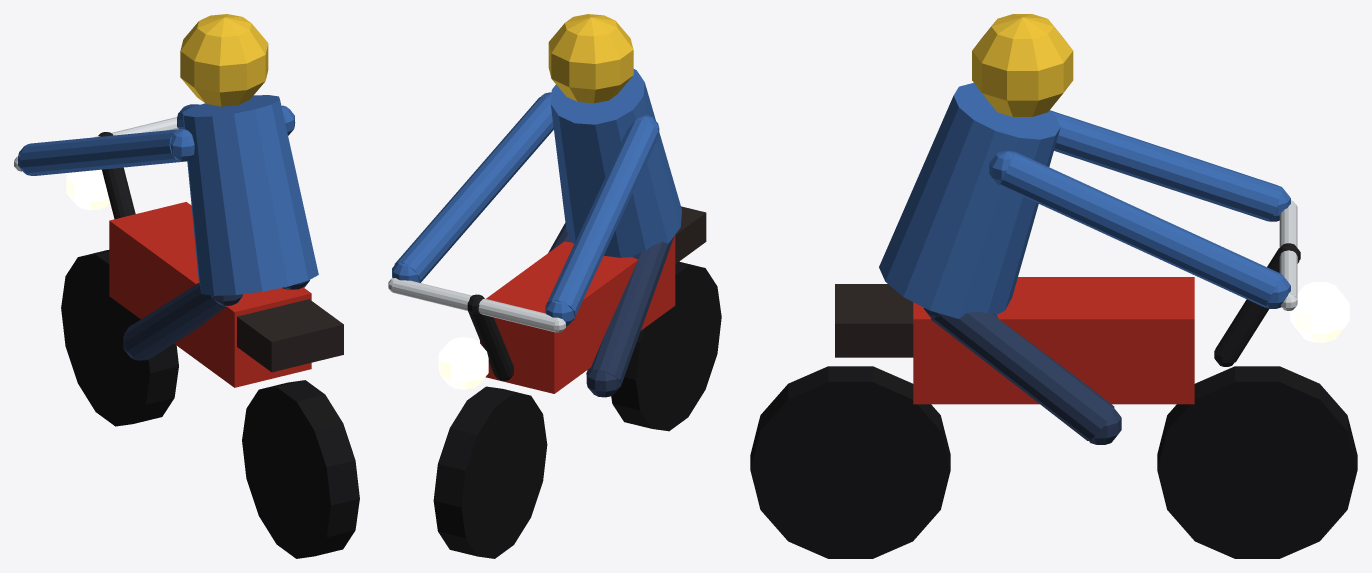
The model's file is rick-bike-e8N5pLY_.glb.
The picture shows the model from 3 angles, left to right: view 1: azimuth 30°, elevation 25°; view 2: azimuth 150°, elevation 25°; view 3: azimuth 270°, elevation 25°; orthographic projection. The views are drawn at different scales.
Parts seen in each view (by area): view 1: Cone, Cylinder, Cube, Cylinder.001, Sphere.005, Cube.001, Cylinder.004, Cylinder.005, Sphere.004, Cylinder.002, Sphere.006, Cylinder.003; view 2: Cylinder.001, Cone, Cube, Cylinder, Cylinder.006, Cylinder.004, Sphere.005, Cylinder.005, Cylinder.003, Sphere.004, Cylinder.002, Cube.001 (+2 smaller); view 3: Cylinder, Cylinder.001, Cube, Cone, Cylinder.006, Cylinder.004, Sphere.005, Cylinder.007, Cube.001, Sphere.004, Cylinder.002, Cylinder.003.
Part boxes in pixels (x1=…): Cone: x1=182, y1=95, x2=318, y2=295; Cylinder: x1=242, y1=380, x2=359, y2=558; Cube: x1=109, y1=202, x2=311, y2=387; Cylinder.001: x1=61, y1=250, x2=178, y2=426; Sphere.005: x1=180, y1=14, x2=268, y2=106; Cube.001: x1=237, y1=299, x2=343, y2=372; Cylinder.004: x1=20, y1=129, x2=185, y2=175; Cylinder.005: x1=124, y1=283, x2=239, y2=359; Sphere.004: x1=66, y1=169, x2=109, y2=210; Cylinder.002: x1=102, y1=167, x2=135, y2=219; Sphere.006: x1=170, y1=129, x2=194, y2=161; Cylinder.003: x1=94, y1=117, x2=178, y2=137; Cylinder.001: x1=433, y1=386, x2=547, y2=558; Cone: x1=550, y1=69, x2=681, y2=257; Cube: x1=480, y1=235, x2=675, y2=393; Cylinder: x1=611, y1=261, x2=721, y2=431; Cylinder.006: x1=394, y1=96, x2=553, y2=282; Cylinder.004: x1=546, y1=120, x2=659, y2=320; Sphere.005: x1=548, y1=14, x2=633, y2=103; Cylinder.005: x1=586, y1=237, x2=673, y2=384; Cylinder.003: x1=391, y1=278, x2=557, y2=332; Sphere.004: x1=438, y1=337, x2=488, y2=389; Cylinder.002: x1=468, y1=310, x2=513, y2=378; Cube.001: x1=675, y1=206, x2=706, y2=263; Cylinder: x1=750, y1=366, x2=950, y2=558; Cylinder.001: x1=1157, y1=366, x2=1357, y2=558; Cube: x1=913, y1=277, x2=1194, y2=404; Cone: x1=879, y1=83, x2=1060, y2=318; Cylinder.006: x1=999, y1=151, x2=1280, y2=307; Cylinder.004: x1=1050, y1=110, x2=1280, y2=221; Sphere.005: x1=972, y1=14, x2=1073, y2=116; Cylinder.007: x1=931, y1=311, x2=1114, y2=440; Cube.001: x1=835, y1=284, x2=913, y2=357; Sphere.004: x1=1290, y1=282, x2=1349, y2=342; Cylinder.002: x1=1215, y1=248, x2=1299, y2=362; Cylinder.003: x1=1279, y1=201, x2=1297, y2=307.
Size of the model in its own units: 0.7772 by 1.88 by 1.94.
